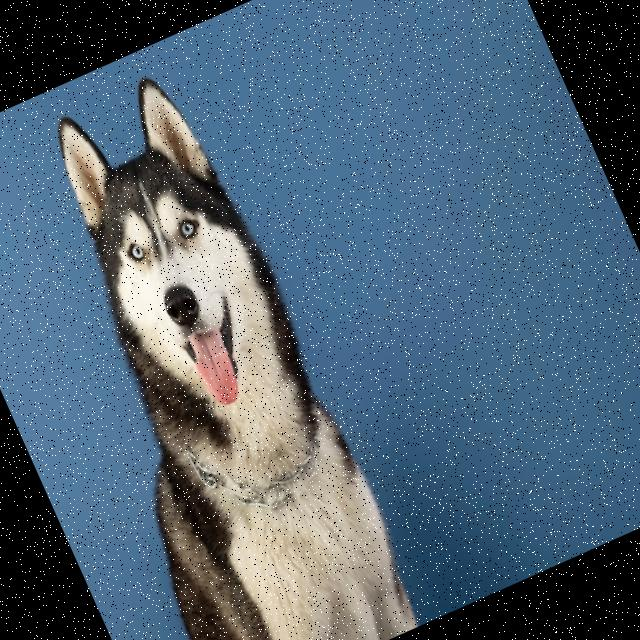Dog: (0, 58, 429, 640)
